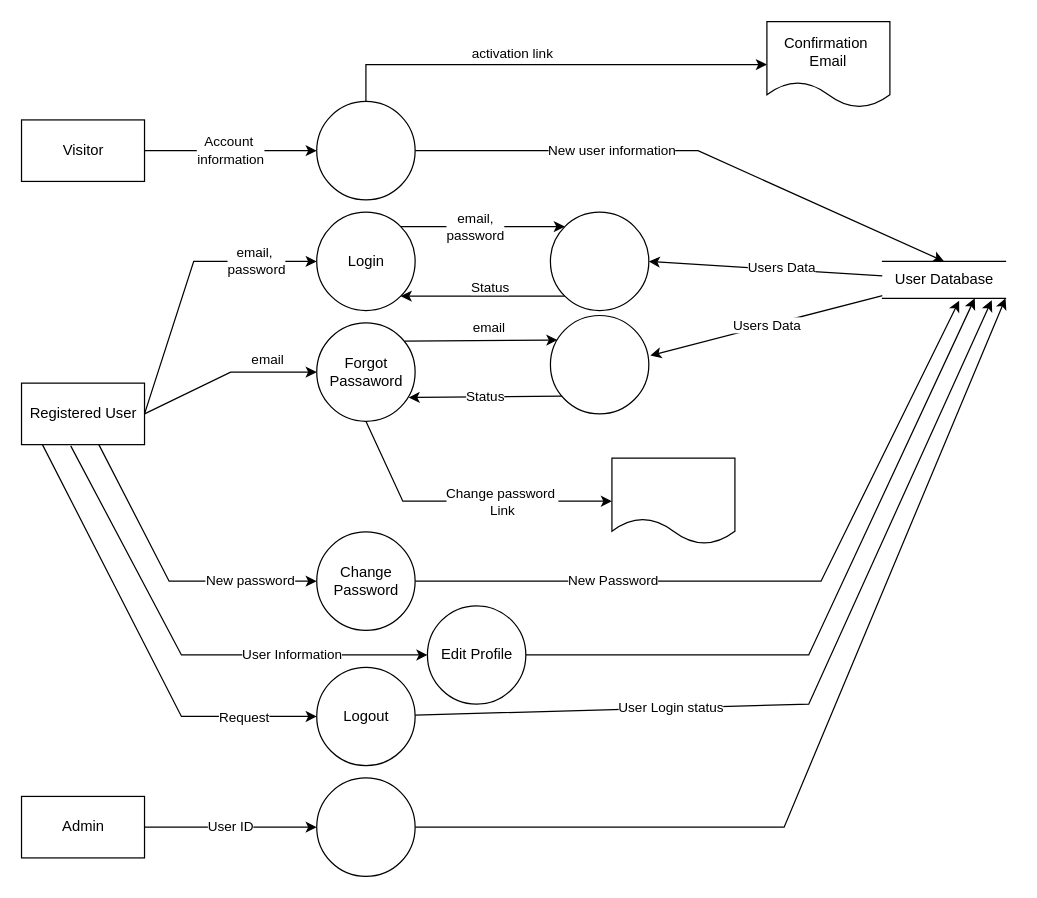
Image size: 1037x898. Some labels were removed from this diagram. Here are the shapes that lost their labels. From the top down, the box of each, then its label:
(315, 100, 415, 200): Registration
(549, 211, 649, 311): Login verification
(549, 314, 649, 414): Email verification
(611, 457, 735, 544): Change Password Email
(315, 777, 415, 876): Delete User
